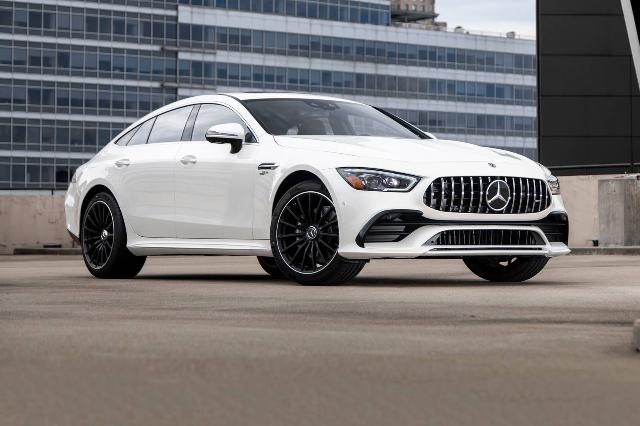benz: (63, 92, 571, 284)
